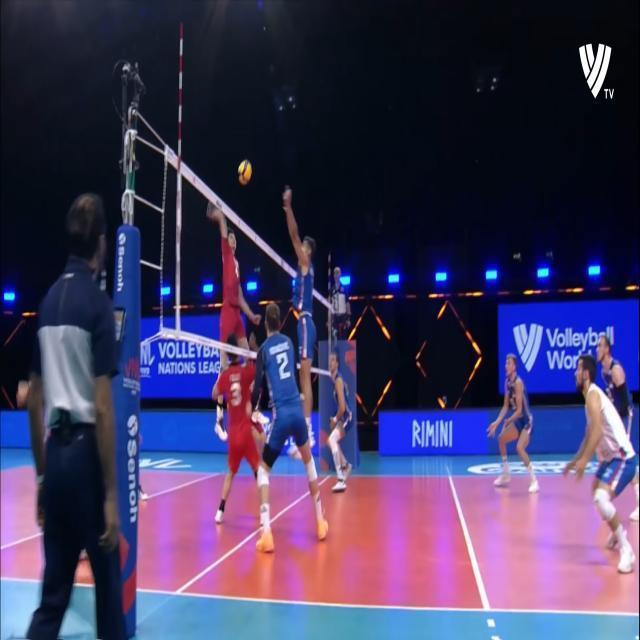volleyball: (237, 160, 252, 186)
